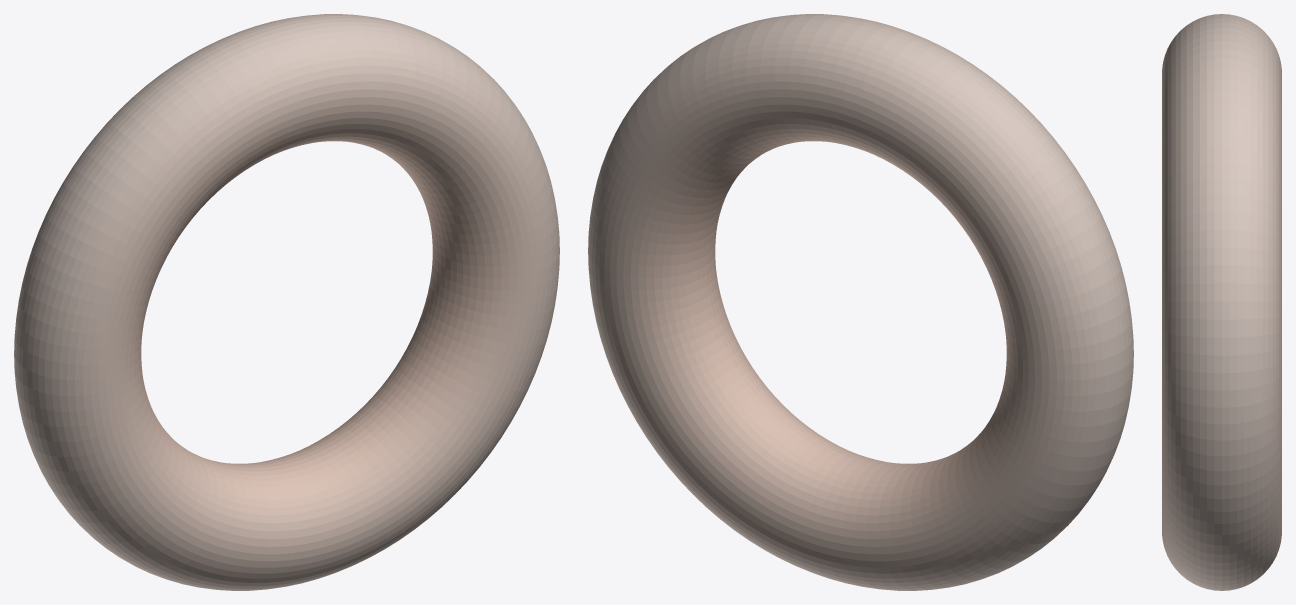
3 views of the same model, side by side, from view 1: azimuth 30°, elevation 25°; view 2: azimuth 150°, elevation 25°; view 3: azimuth 270°, elevation 25° (orthographic). The views are drawn at different scales.
Parts seen in each view (by area): view 1: world; view 2: world; view 3: world.
Boxes of the visible parts, x1,y1,x2,y2 form: world: [14, 14, 559, 590]; world: [588, 14, 1133, 590]; world: [1162, 14, 1281, 590].
Size of the model in its own units: 26.67 by 26.67 by 5.54.
